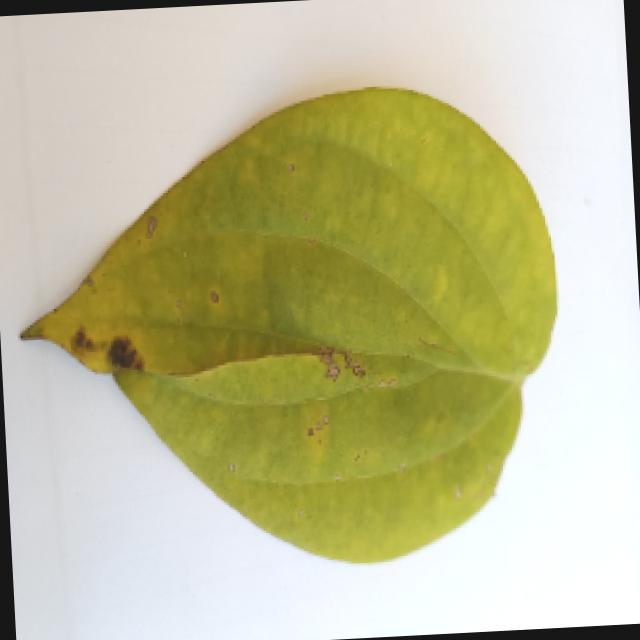slow-decline: (13, 75, 570, 582)
